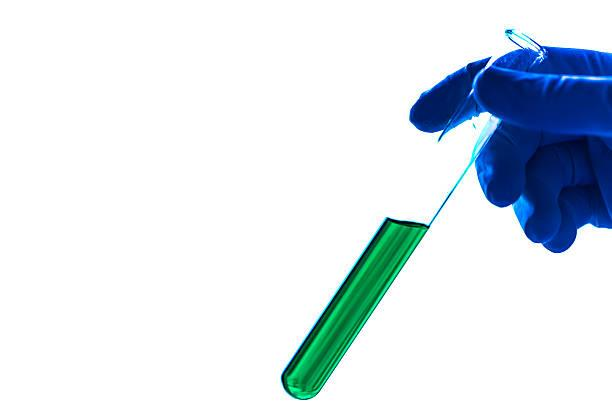Test tube: (277, 6, 546, 405)
